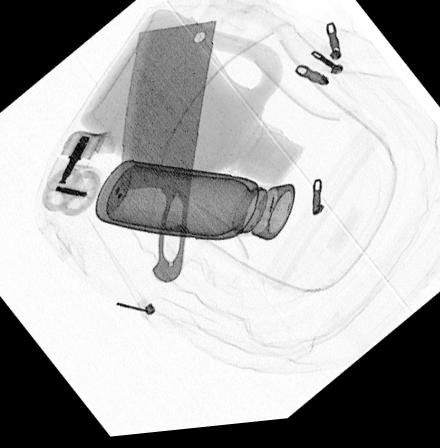Knife: (117, 24, 219, 287)
